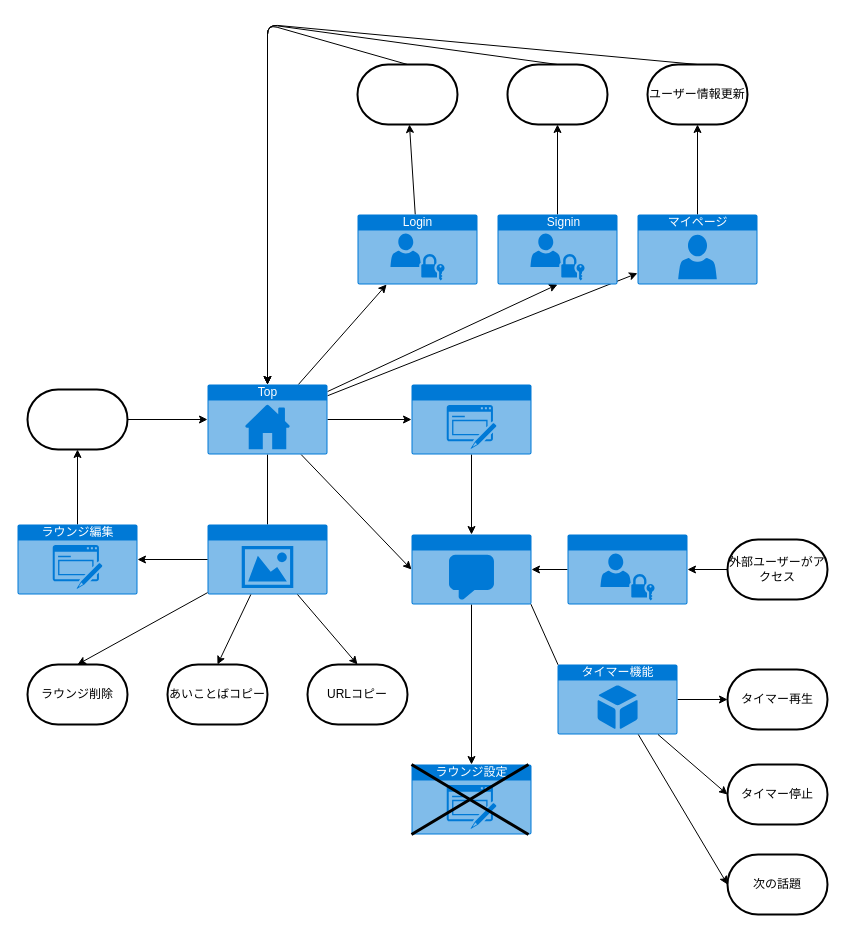
Some shapes in this 845 by 933 pixel diagram are drawn without their labels. The shapes that lost their labels are listed below. From the top down, each one's centre as x and y in pixels, then its label:
At [407,94]: "ログイン".
At [557,94]: "サインイン".
At [77,419]: "ラウンジ更新".
At [471,419]: "ラウンジ作成".
At [267,559]: "ラウンジ一覧".
At [471,569]: "ラウンジ".
At [627,569]: "あいことば確認".
